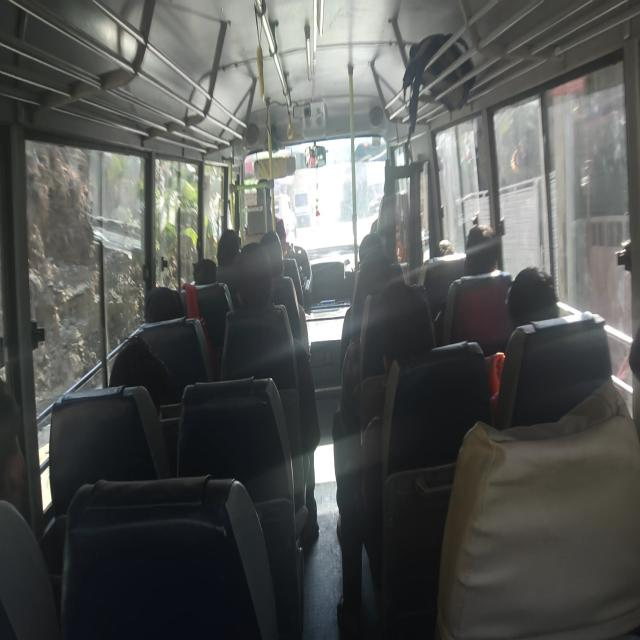person: (220, 243, 321, 543), (485, 265, 562, 416), (340, 215, 406, 372), (108, 336, 173, 416), (506, 265, 560, 329), (462, 223, 502, 276), (143, 285, 184, 323), (217, 228, 240, 267), (192, 258, 217, 285)
